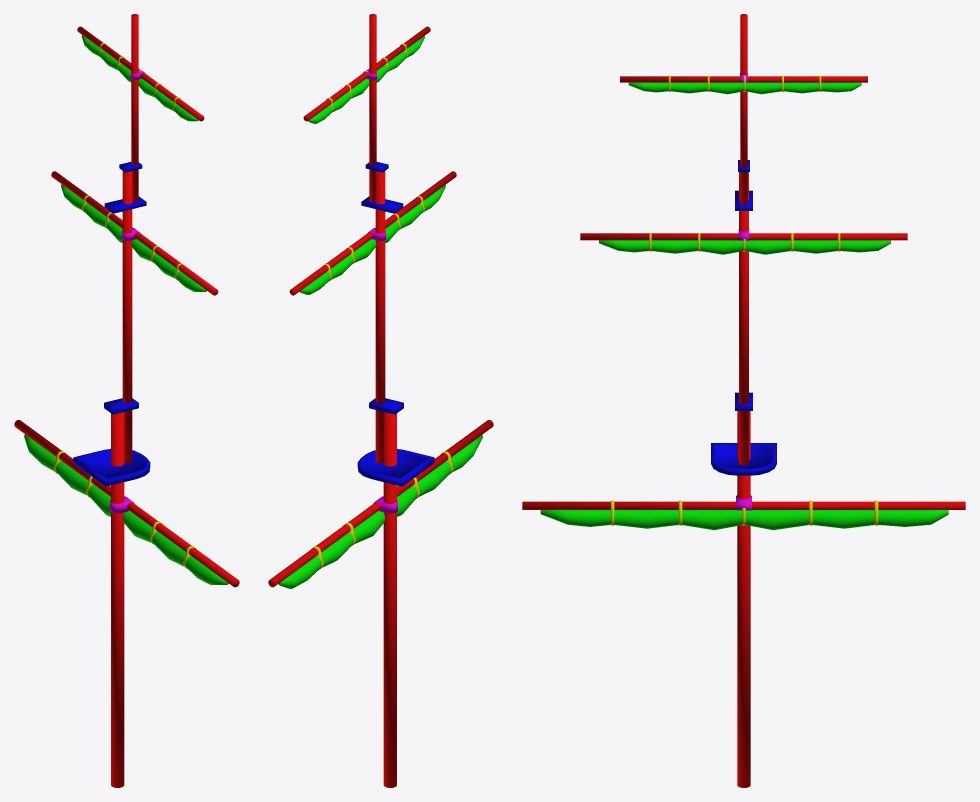
The model's file is 8mast1.fbx.
3 views of the same model, side by side, from view 1: azimuth 30°, elevation 25°; view 2: azimuth 150°, elevation 25°; view 3: azimuth 270°, elevation 25° (orthographic).
Parts seen in each view (by area): view 1: mast1; view 2: mast1; view 3: mast1.
Boxes of the visible parts, x1,y1,x2,y2 form: mast1: (14, 14, 239, 787); mast1: (268, 14, 493, 787); mast1: (522, 14, 965, 787).
Size of the model in its own units: 199 by 2570 by 1327.
